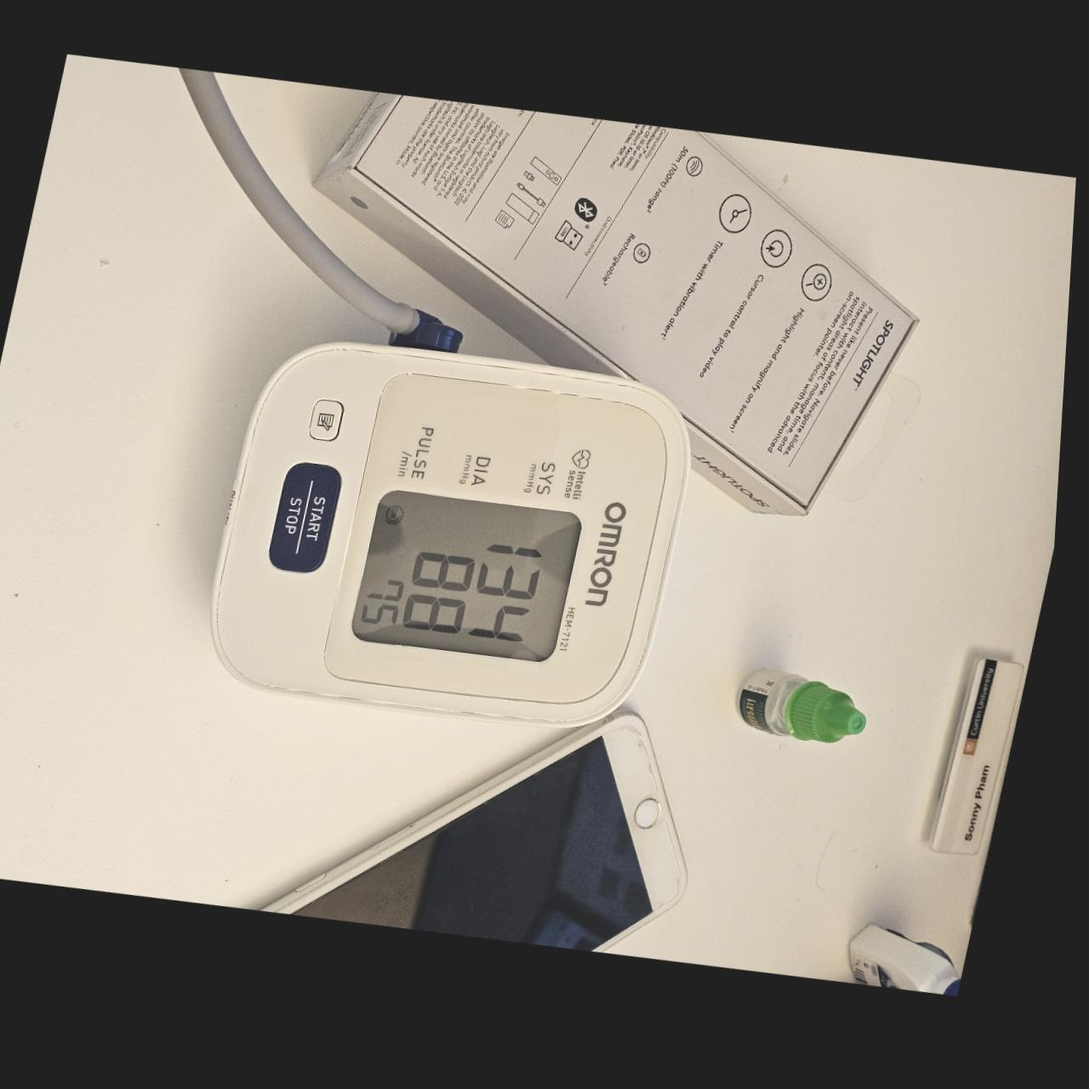blood pressure monitor: (182, 311, 715, 757)
